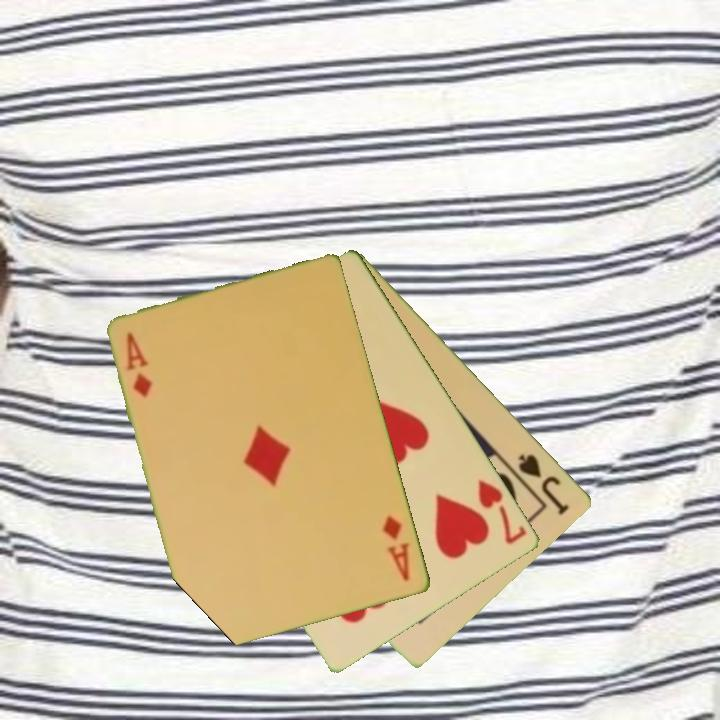7h: (475, 476, 531, 548)
Ad: (379, 512, 414, 584), (123, 328, 156, 401)
Js: (515, 450, 573, 518)
